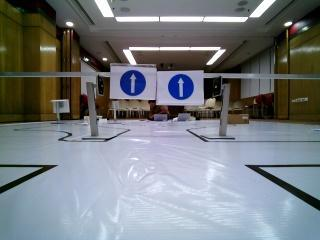straight: (109, 63, 154, 98), (157, 73, 205, 105)
